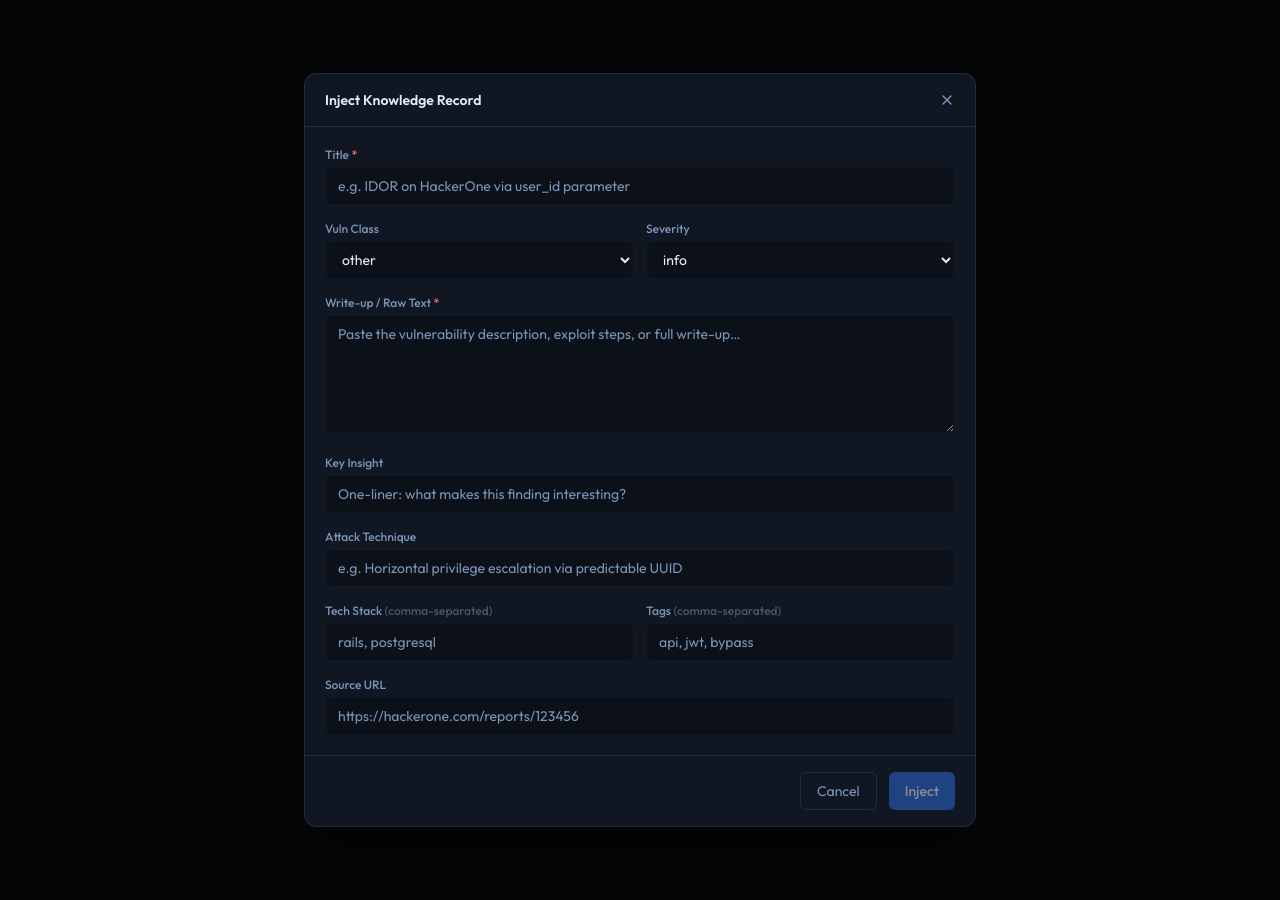
Test case: KBInjectDialog › Inject button is enabled when both title and rawText are filled
Step 1. Type "My Finding" into the field with placeholder "e.g. IDOR on HackerOne via user_id parameter" → {"x": 640, "y": 186}, box [325,167,955,205]
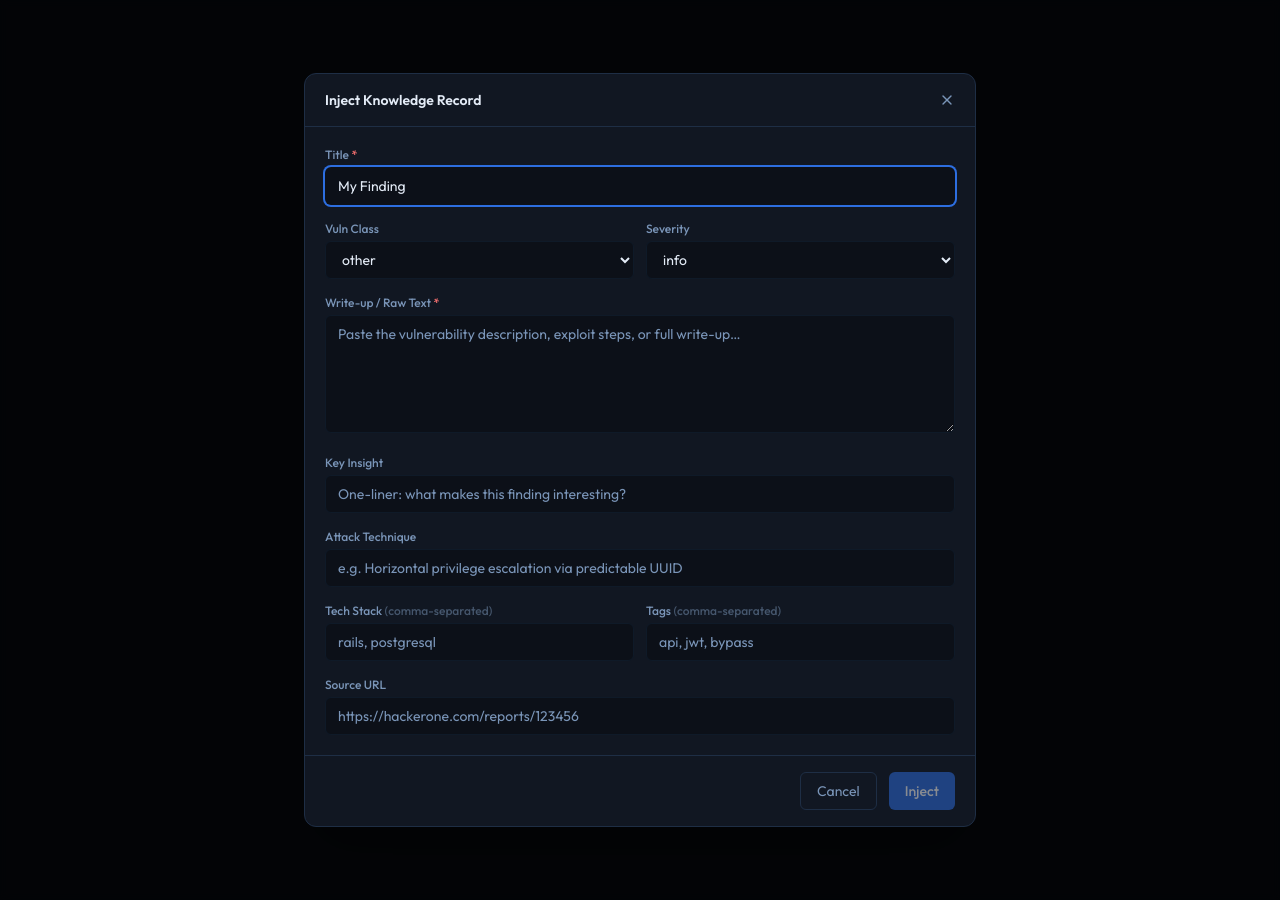
Step 2. Type "Detailed write-up here." into the text box with placeholder "Paste the vulnerability" → {"x": 640, "y": 374}, box [325,315,955,433]
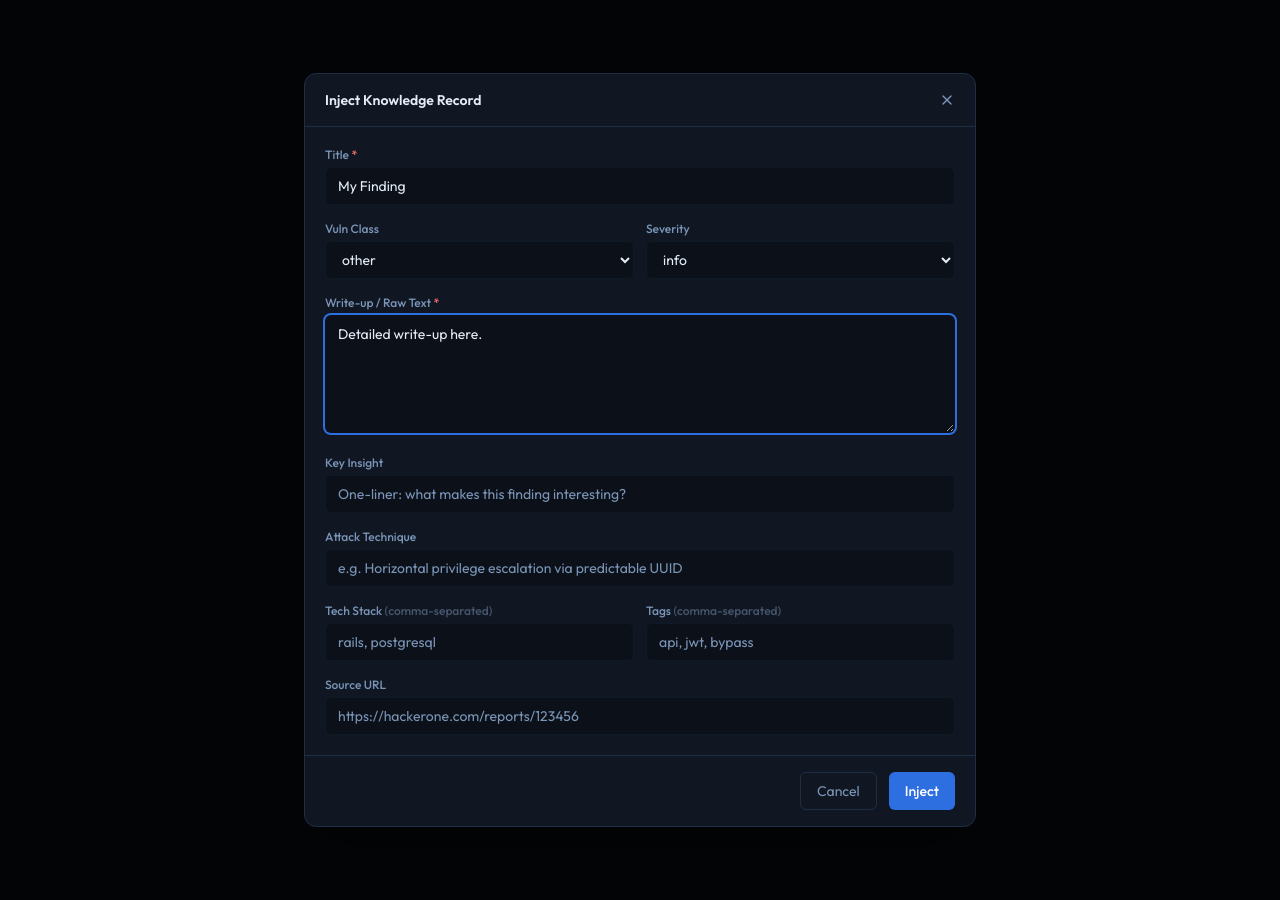
Now the button "Inject" is enabled, box [889,772,955,810]
